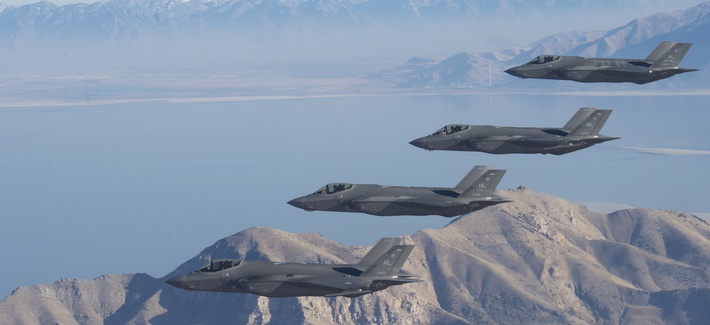F-35 Lightning: (158, 230, 455, 325), (281, 154, 529, 232), (400, 107, 646, 176), (467, 42, 710, 87)
